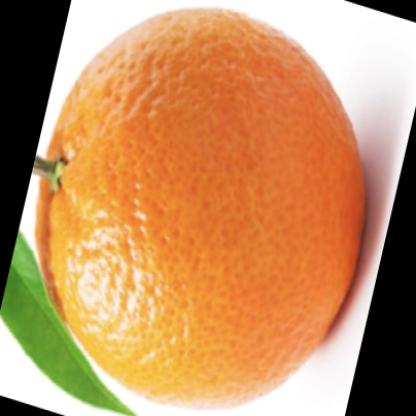fresh: (34, 8, 367, 402)
